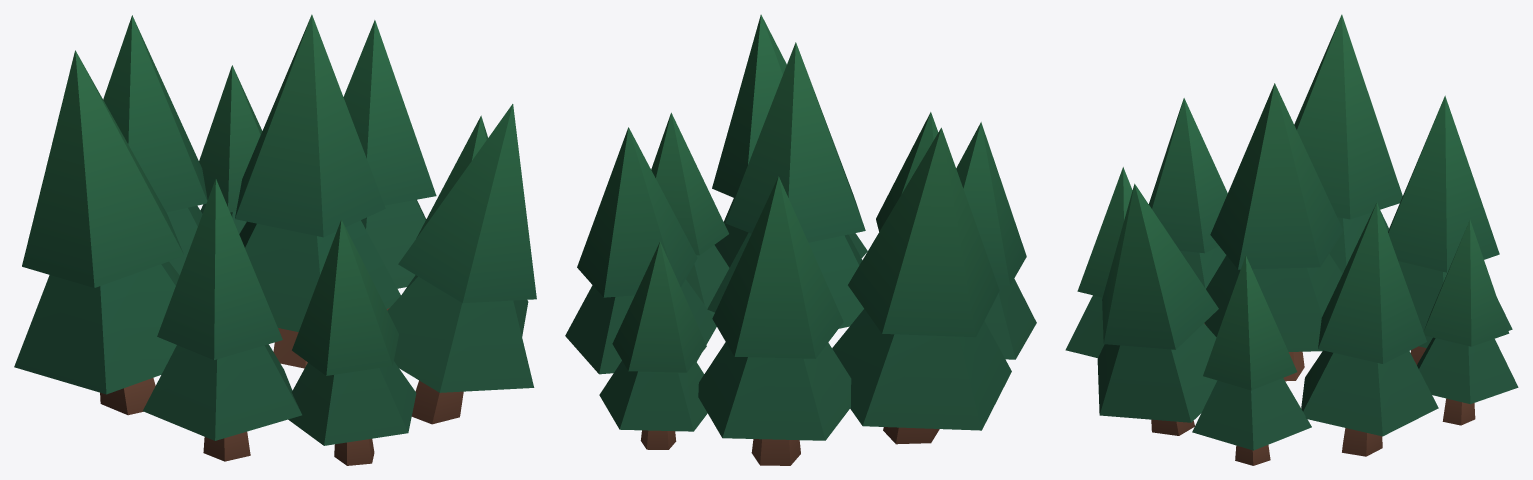
File: trees-a-small.glb
The picture shows the model from 3 angles, left to right: view 1: azimuth 30°, elevation 25°; view 2: azimuth 150°, elevation 25°; view 3: azimuth 270°, elevation 25°; orthographic projection. The views are drawn at different scales.
Visible parts, largest first — view 1: trees-a-small; view 2: trees-a-small; view 3: trees-a-small.
Boxes of the visible parts, x1=… form: trees-a-small: x1=14, y1=14, x2=536, y2=465; trees-a-small: x1=565, y1=14, x2=1036, y2=465; trees-a-small: x1=1065, y1=14, x2=1518, y2=465.
Size of the model in its own units: 5.79 by 4.5 by 5.82.
